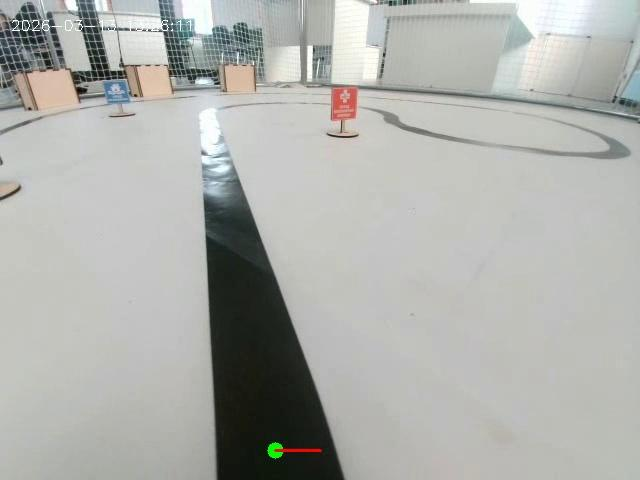flood: (101, 72, 150, 121)
medical: (327, 78, 370, 141)
